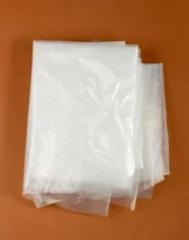plastic: (21, 38, 170, 216)
